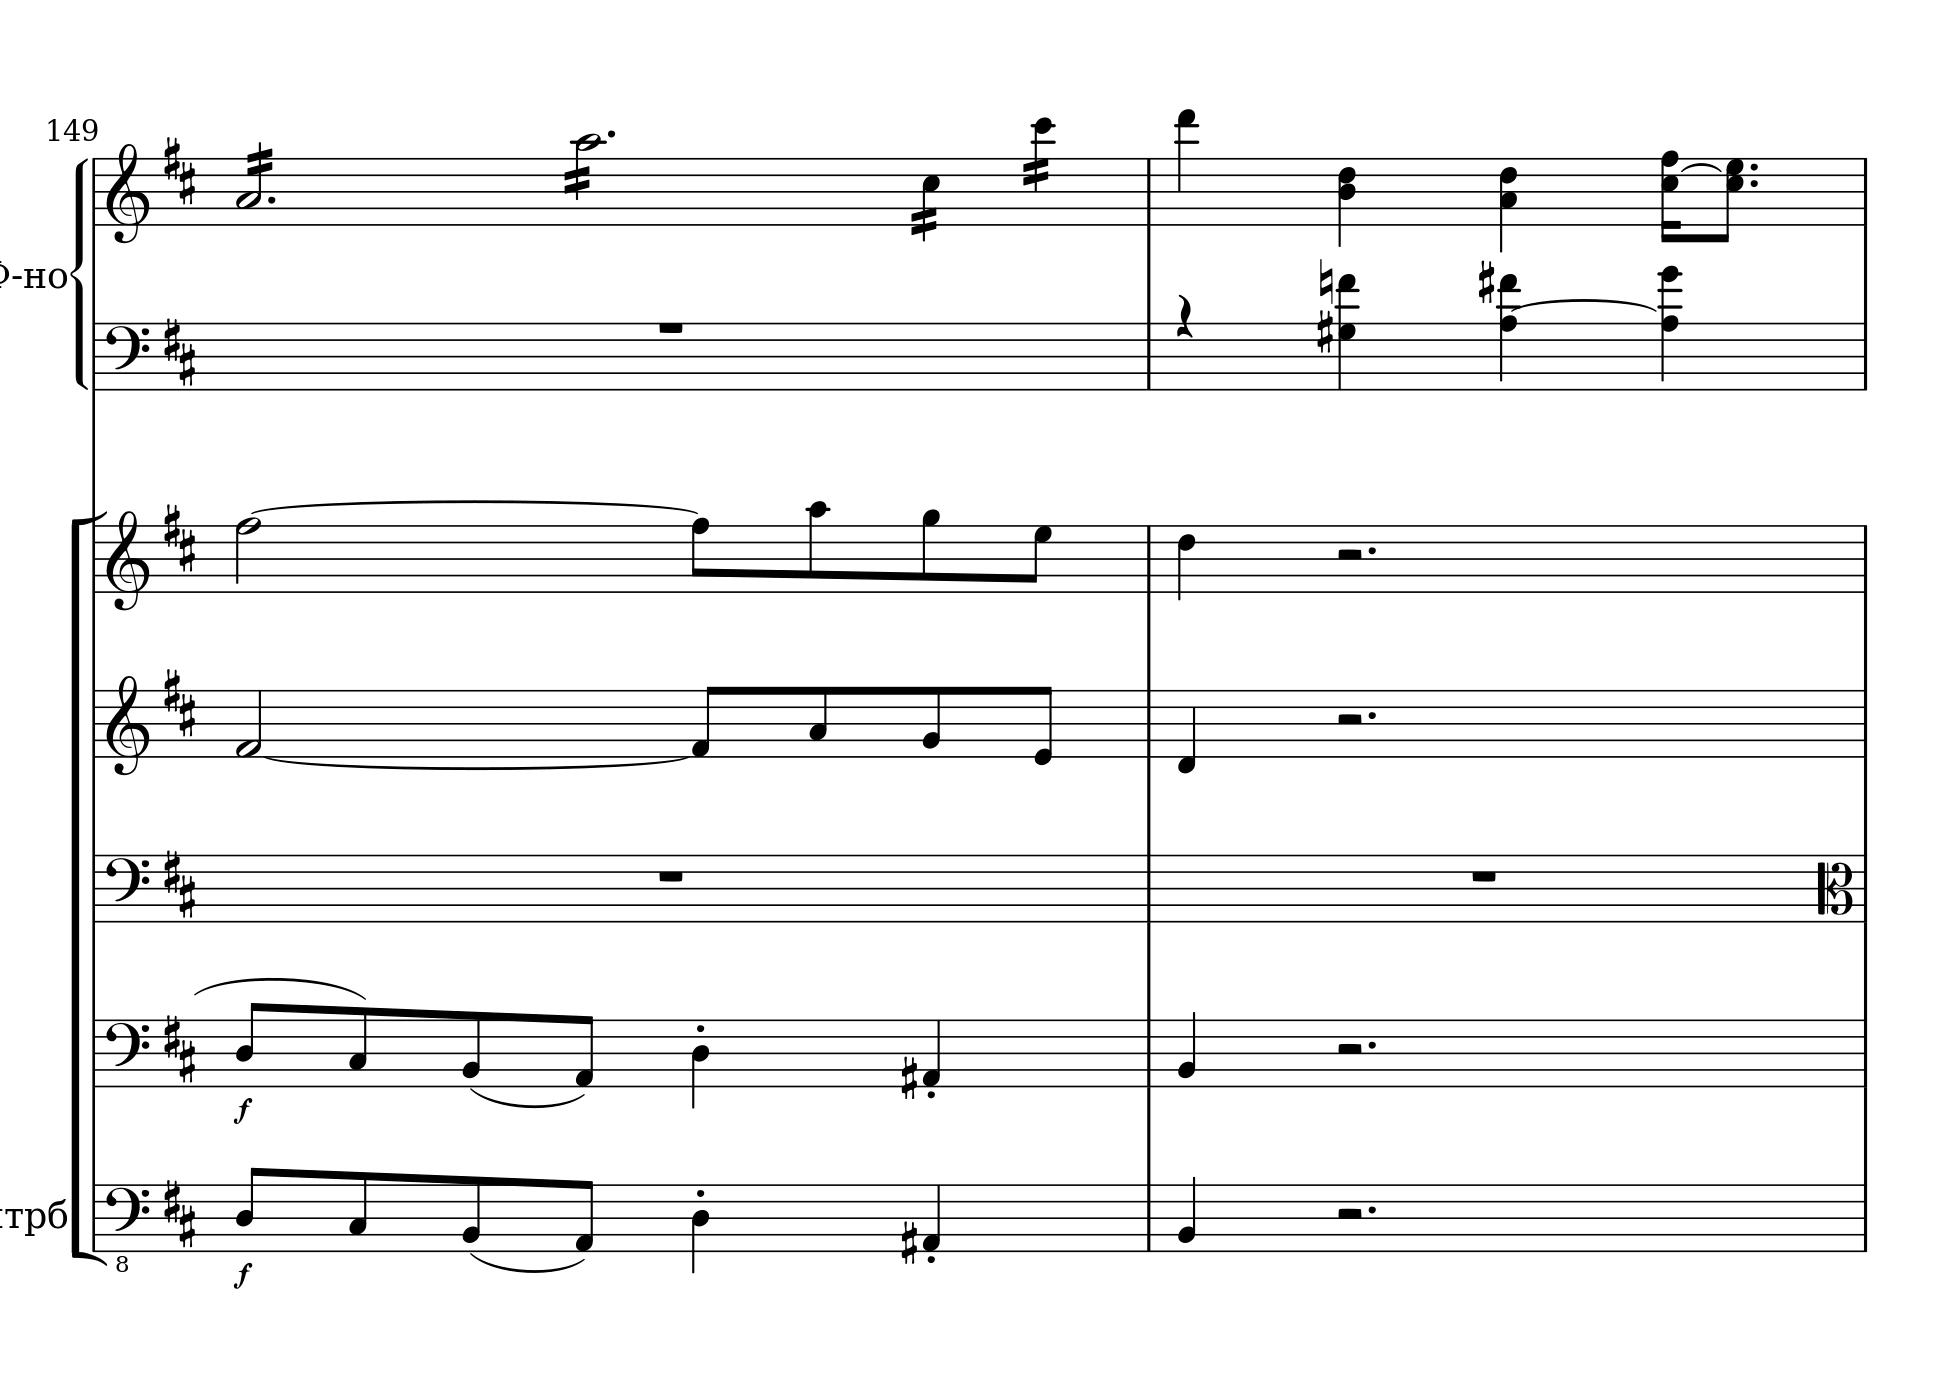1: (46, 115, 61, 144)
16_5_8: (1659, 148, 1686, 244)
2_1: (234, 687, 264, 759)
2_8: (232, 514, 261, 594)
4: (63, 115, 79, 142)
4_-1: (1176, 685, 1200, 774)
4_1: (922, 1017, 943, 1087), (922, 1182, 943, 1252)
4_13: (1176, 106, 1200, 226)
4_2: (1176, 1009, 1200, 1087), (1176, 1174, 1200, 1252)
4_3_6: (1497, 156, 1519, 250)
4_4: (690, 1017, 711, 1108), (690, 1183, 711, 1273)
4_4_6: (1338, 157, 1357, 247)
4_6: (1176, 522, 1198, 601)
4_7_13: (1336, 271, 1359, 391)
4_8_13: (1497, 273, 1522, 391)
4_8_14: (1657, 264, 1686, 391)
8_0: (1032, 684, 1056, 766)
8_1: (688, 682, 721, 759), (571, 1177, 595, 1254), (573, 1012, 595, 1089)
8_10: (805, 499, 829, 595)
8_2: (460, 1009, 483, 1087), (921, 685, 943, 760), (460, 1174, 481, 1254)
8_3: (346, 1005, 370, 1089), (346, 1168, 369, 1252), (807, 684, 829, 760)
8_4: (234, 1000, 262, 1087), (234, 1165, 262, 1252)
8_5_7: (1719, 156, 1747, 241)
8_7: (1023, 523, 1053, 594)
8_8: (690, 514, 711, 595)
8_9: (919, 507, 942, 595)
9: (81, 115, 99, 142)
Brace: (70, 154, 88, 388)
Bracke: (70, 508, 105, 1270)
Cclef: (1816, 852, 1854, 922)
D_S: (160, 1174, 198, 1246), (160, 501, 196, 573), (160, 135, 196, 205), (160, 666, 196, 736), (162, 313, 196, 385), (162, 1011, 196, 1081), (162, 847, 196, 916)
Fclef: (103, 319, 150, 391), (105, 853, 151, 924), (103, 1018, 150, 1089)
Gclef: (105, 139, 150, 244), (105, 673, 150, 777), (106, 508, 148, 612)
Lower_Fclef: (103, 1183, 150, 1273)
Natural: (1318, 256, 1335, 304)
Rests1: (654, 865, 688, 886), (654, 318, 687, 337), (1468, 865, 1500, 885)
Rests2: (1333, 546, 1366, 565), (1333, 711, 1365, 729), (1335, 1204, 1366, 1222), (1335, 1041, 1366, 1057)
Rests4: (1174, 292, 1194, 339)
Sharp: (1476, 256, 1497, 306), (898, 1053, 919, 1101), (898, 1218, 919, 1264), (1317, 307, 1335, 355)
Single_barline: (1138, 853, 1161, 921), (1140, 525, 1161, 592), (1140, 690, 1161, 757), (1140, 1018, 1159, 1086), (1140, 322, 1159, 388), (1857, 853, 1875, 921), (1855, 1018, 1873, 1086), (1140, 1183, 1158, 1249), (1140, 159, 1158, 223), (1857, 690, 1873, 757), (1857, 157, 1873, 223), (1857, 322, 1873, 388), (1857, 525, 1873, 591), (1857, 1183, 1873, 1249), (88, 157, 103, 225), (88, 525, 103, 592), (88, 322, 103, 388), (87, 690, 102, 756), (87, 855, 102, 921), (87, 1183, 102, 1249), (87, 1020, 102, 1084)
Slur: (238, 498, 703, 514), (264, 759, 685, 774), (193, 976, 369, 997), (1512, 298, 1653, 318), (469, 1086, 585, 1108), (469, 1252, 586, 1273), (1680, 160, 1723, 174)
Stem: (1020, 118, 1057, 226), (564, 130, 604, 228), (909, 156, 943, 241)
dot: (1365, 706, 1378, 721), (1365, 1036, 1378, 1051), (604, 127, 618, 141), (1365, 1201, 1378, 1215), (1366, 541, 1378, 556), (1747, 160, 1761, 172), (1747, 177, 1761, 189), (265, 193, 277, 207)
f: (231, 1261, 255, 1288), (232, 1096, 253, 1123)
